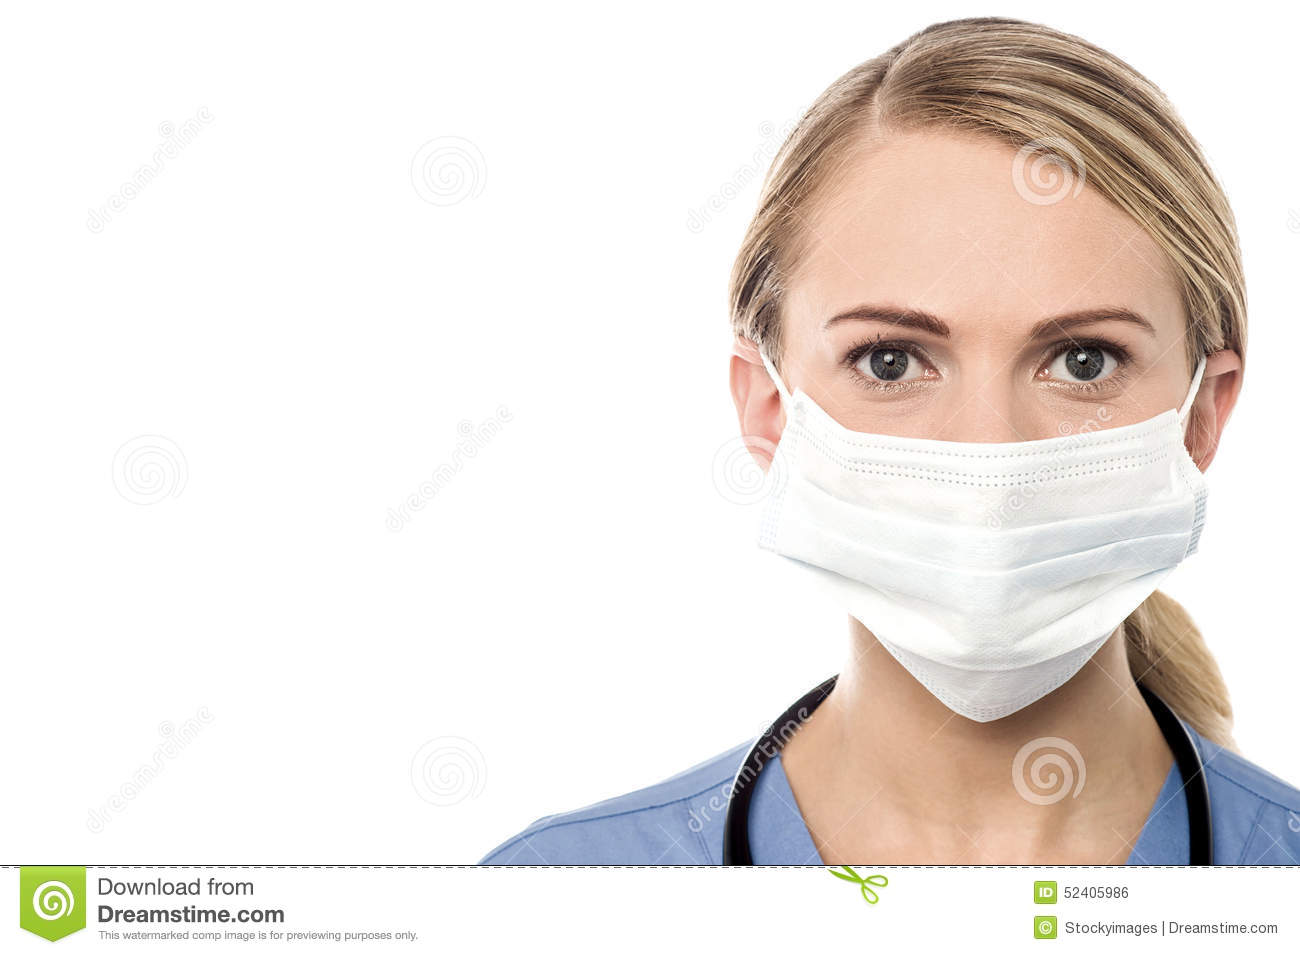mask: (760, 406, 1204, 731)
